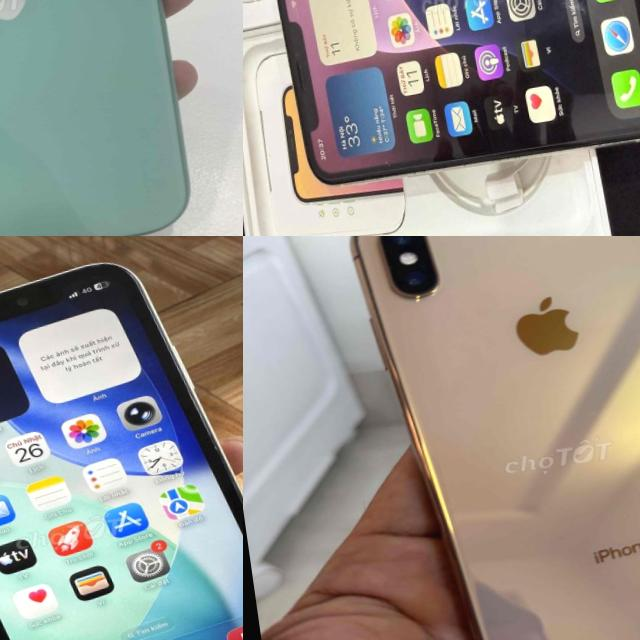scratch: (377, 155, 392, 171)
